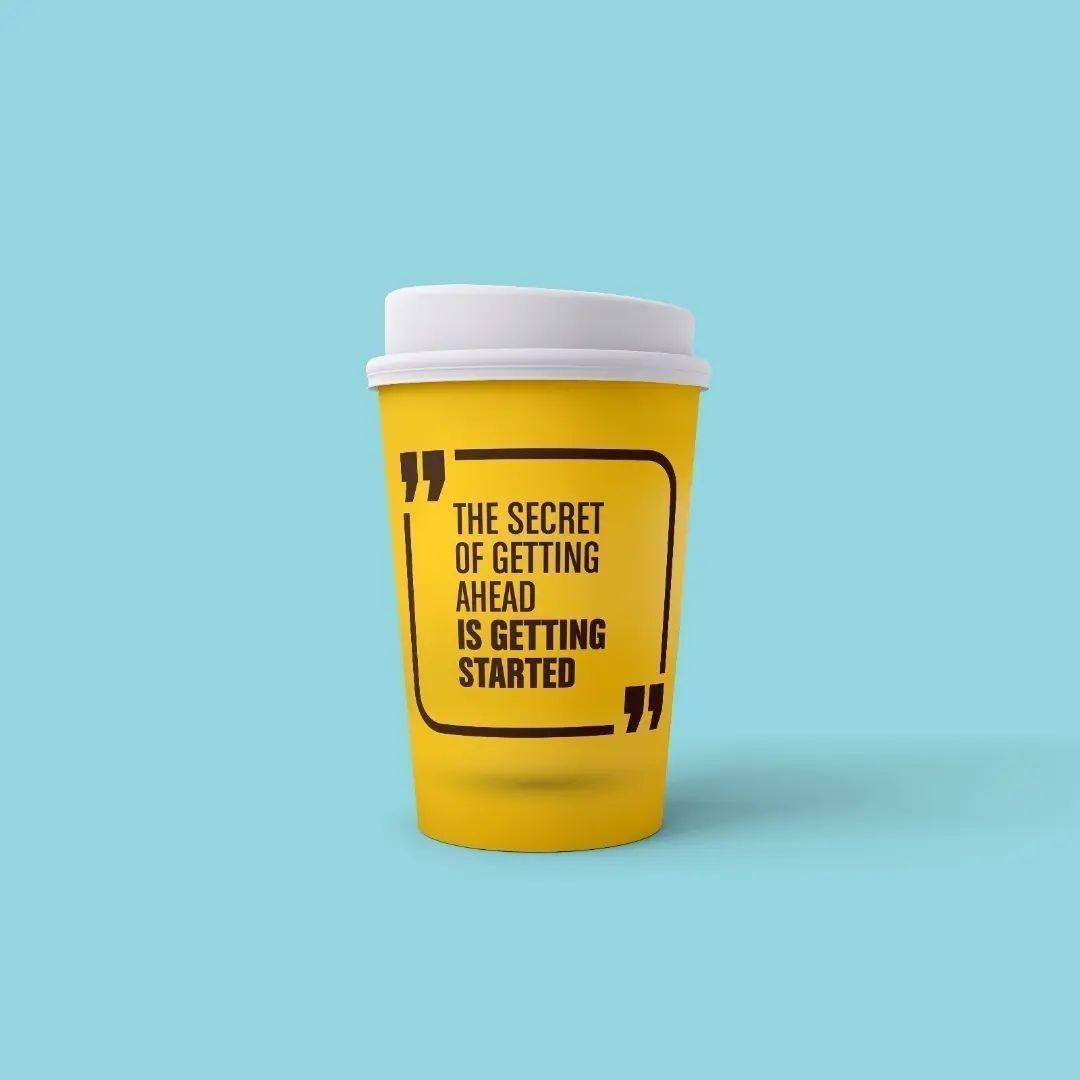cup-disposable: (364, 266, 722, 869)
